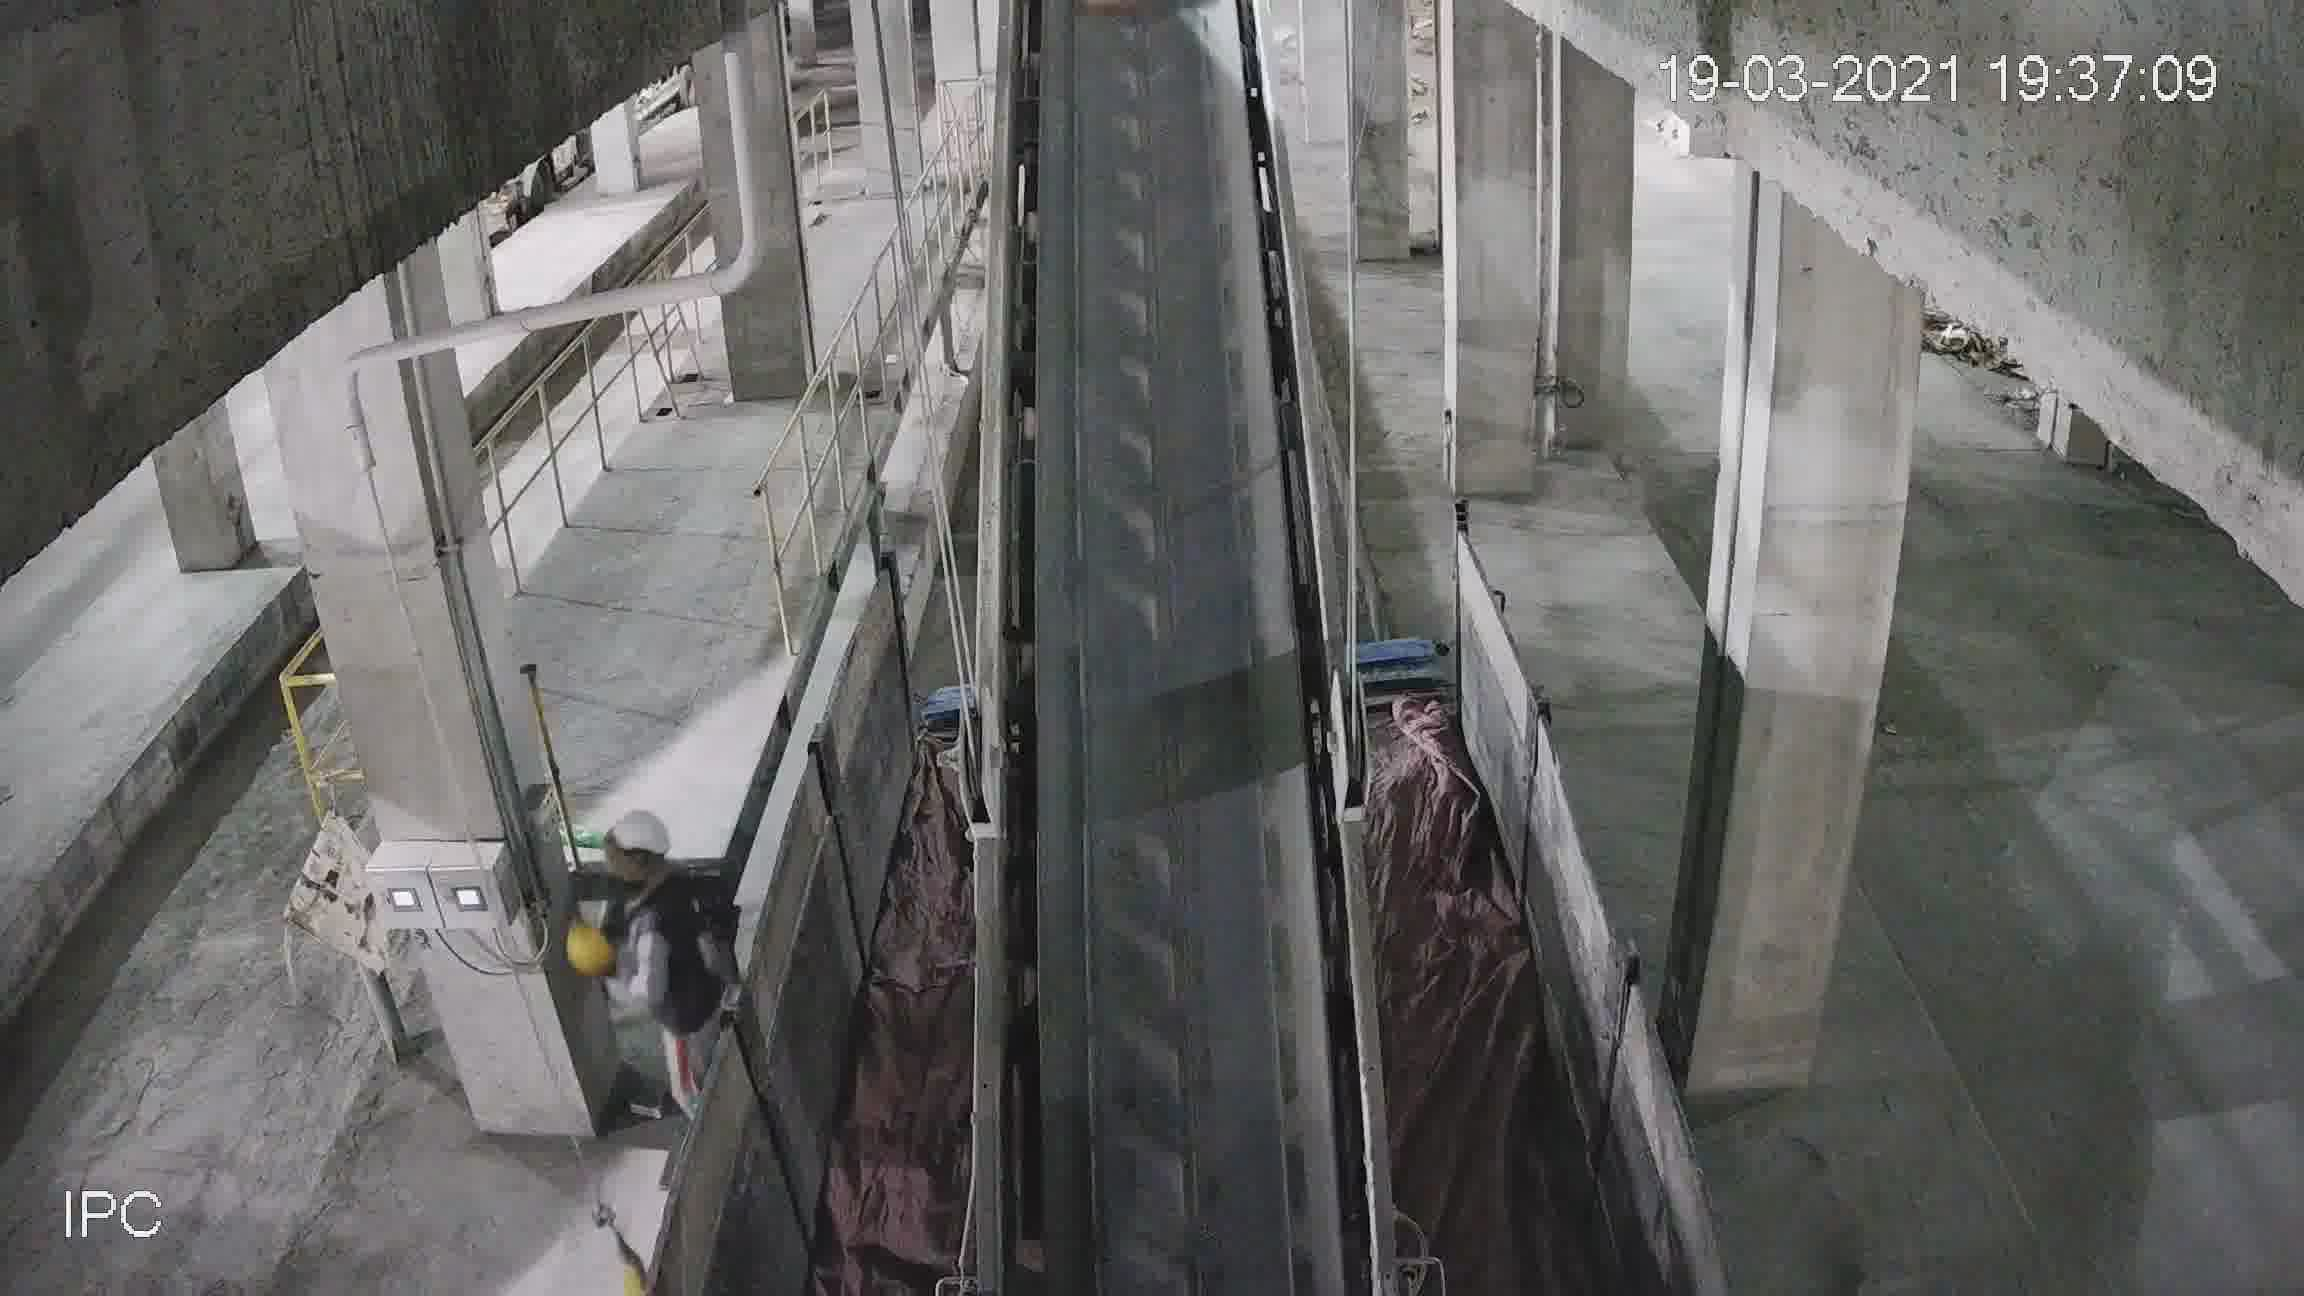belt: (981, 103, 1340, 1195)
